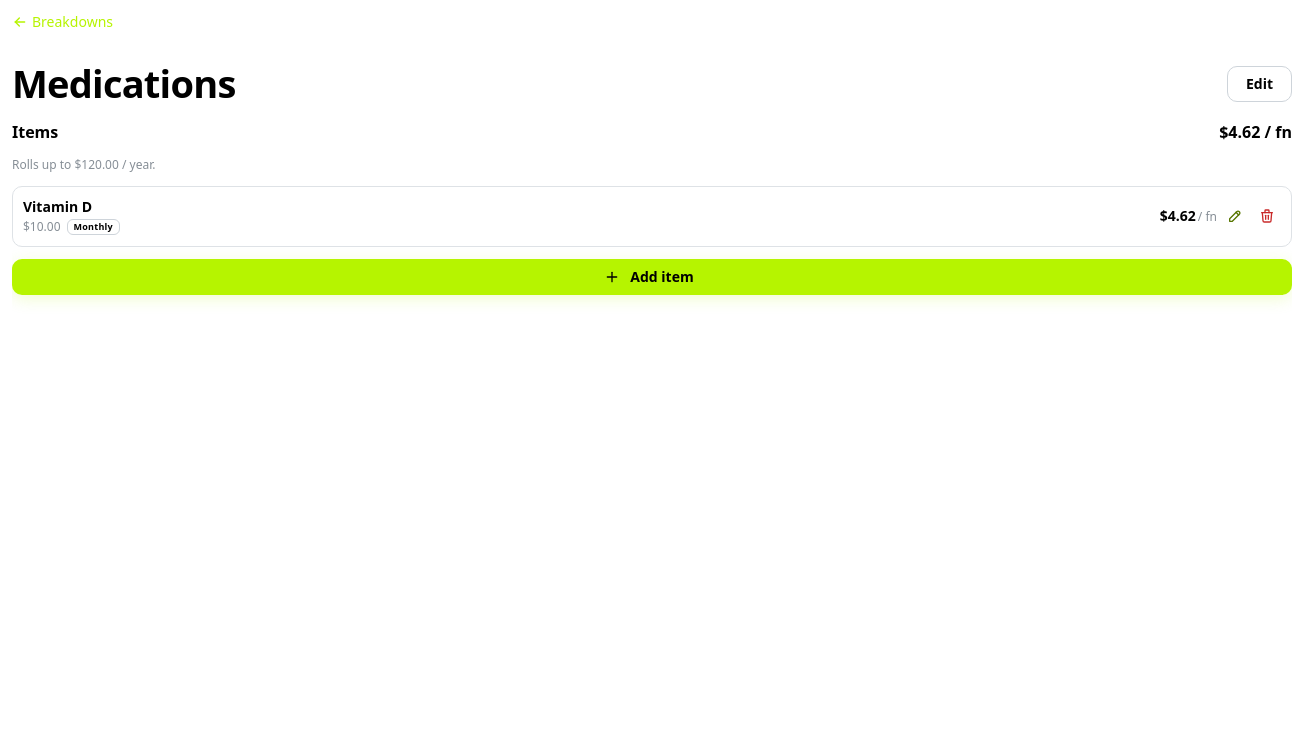
Test: BreakdownDetail › hides the settings card until Edit is toggled
This screenshot has width=1304, height=732.
expect the button "delete breakdown" is not shown: met
Click the button "Edit": {"x": 1259, "y": 84} [1227,66,1292,102]
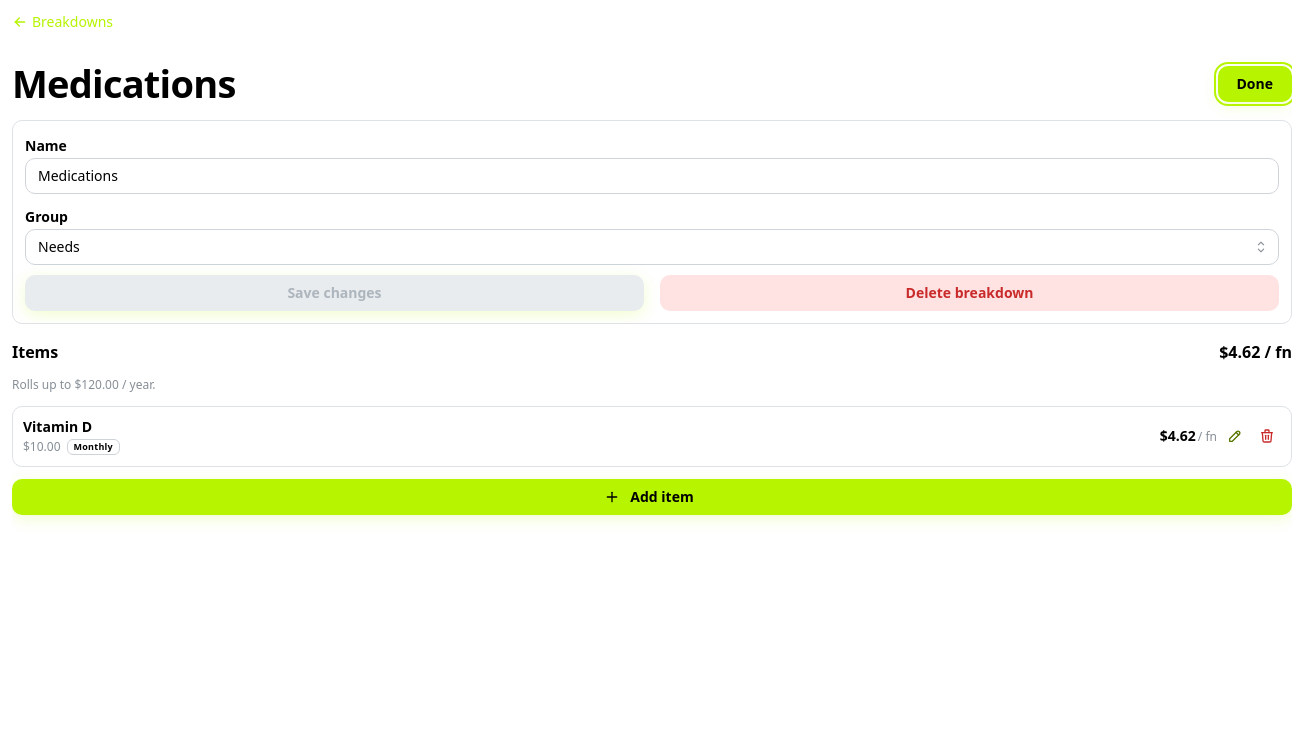
expect the button "Delete breakdown" is shown: met, box [660,275,1279,311]
